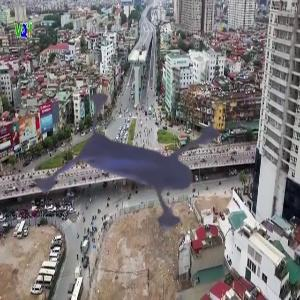drone: (3, 48, 253, 298)
